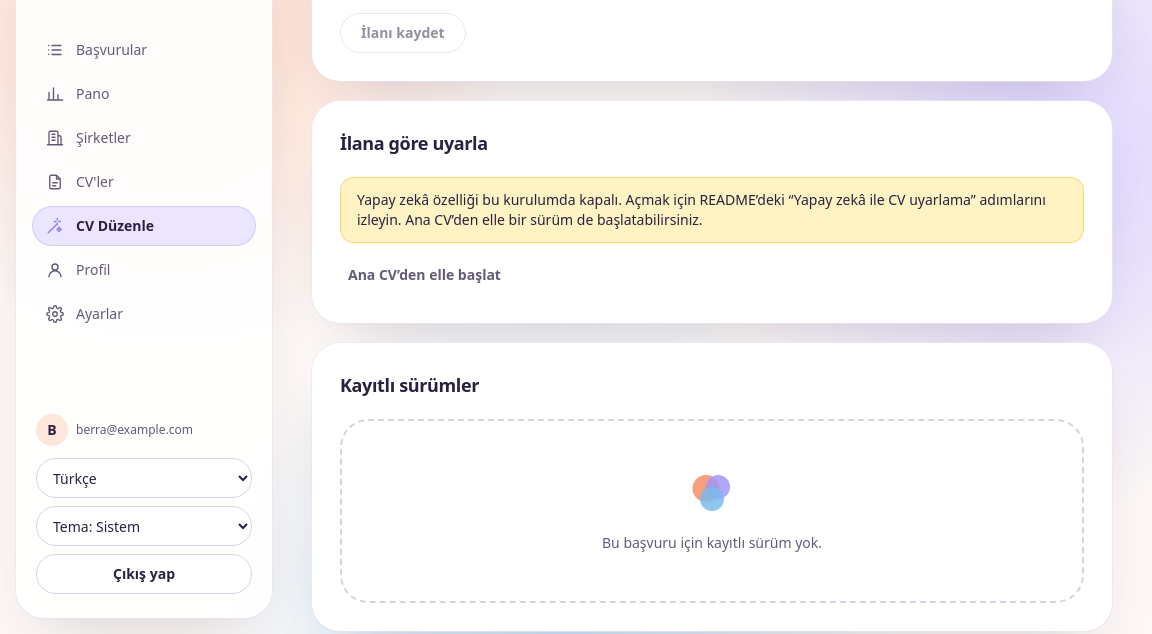
Test case: CV Düzenle (FR-24) › yapay zekâ kapalıyken nasıl açılacağını söyler; Ana CV’den elle sürüm başlatılabilir
(page scrolled)
Expected: the text "Yapay zekâ özelliği bu kurulumda kapalı" is shown, [357,190,1046,228]
Click the button "Ana CV’den elle başlat".
click(424, 274)  # box [328,254,521,294]
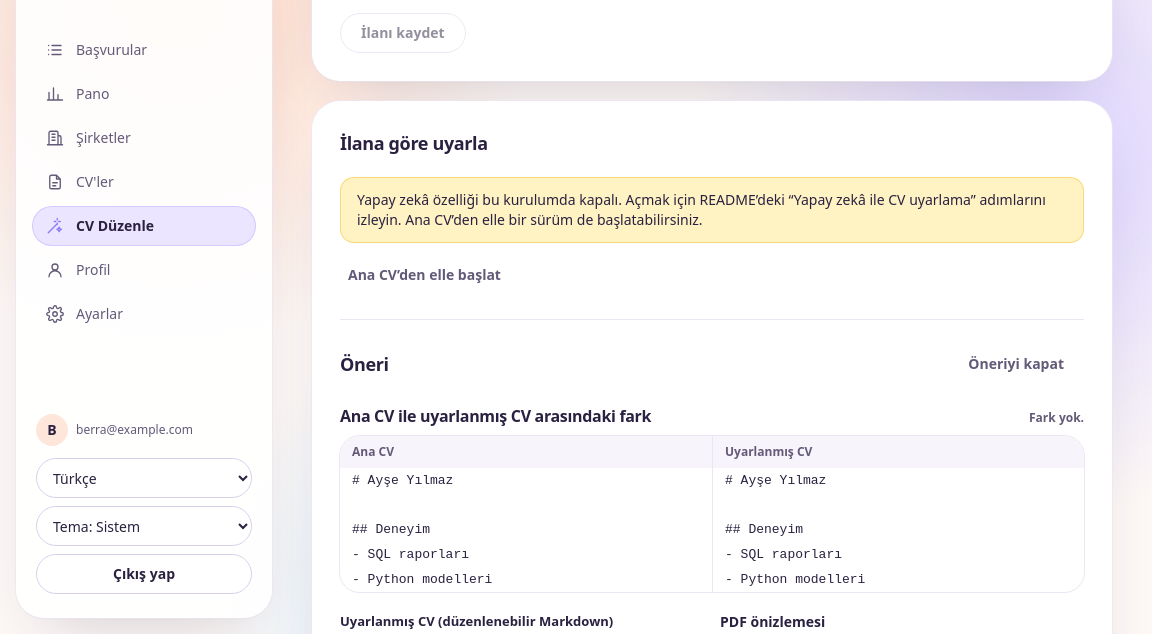
Expected: the text "Fark yok." is shown, [1029,410,1084,426]
